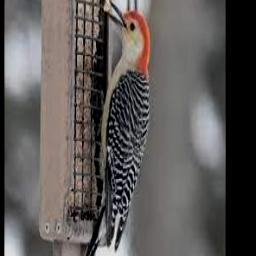Woodpecker: (80, 0, 150, 256)
